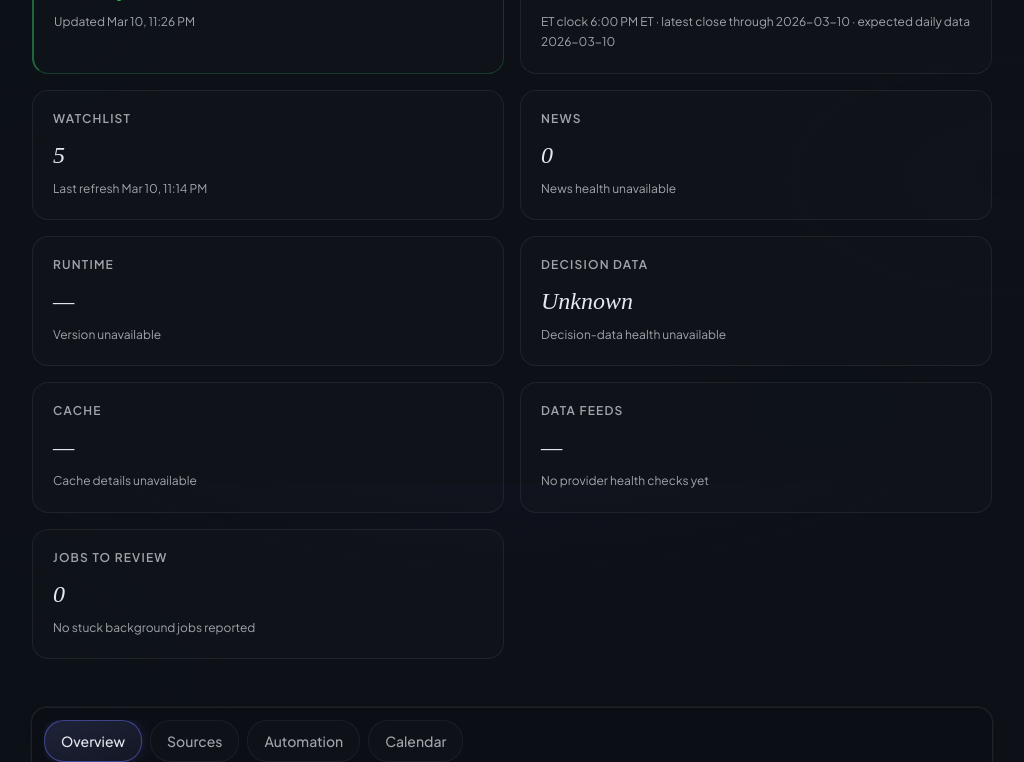
StatusWorkspace › shows resolved remediation history without duplicating cards
This screenshot has width=1024, height=762.
(page scrolled)
Click the tab "Automation" at (304, 741), box [248,720,360,761]
(page scrolled)
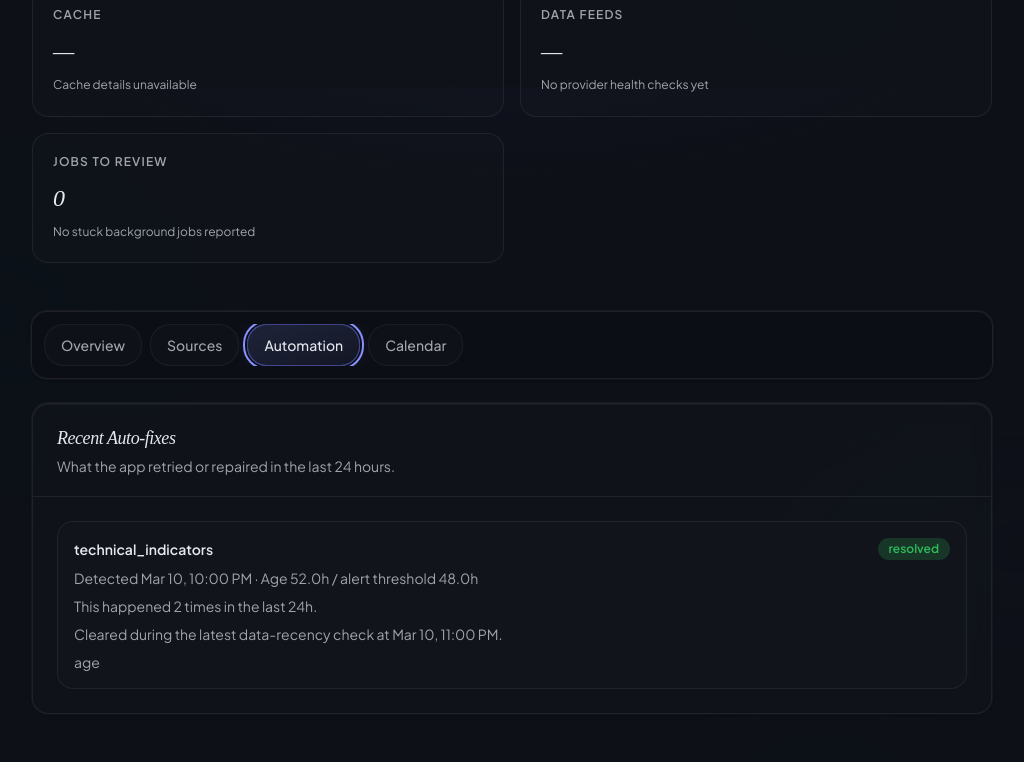
Check: the text "technical_indicators" is shown once, box [74,539,213,559]
Check: the text "resolved" is shown, box [878,538,950,560]
Check: the text "This happened 2 times in the last 24h." is shown, box [74,597,317,615]
